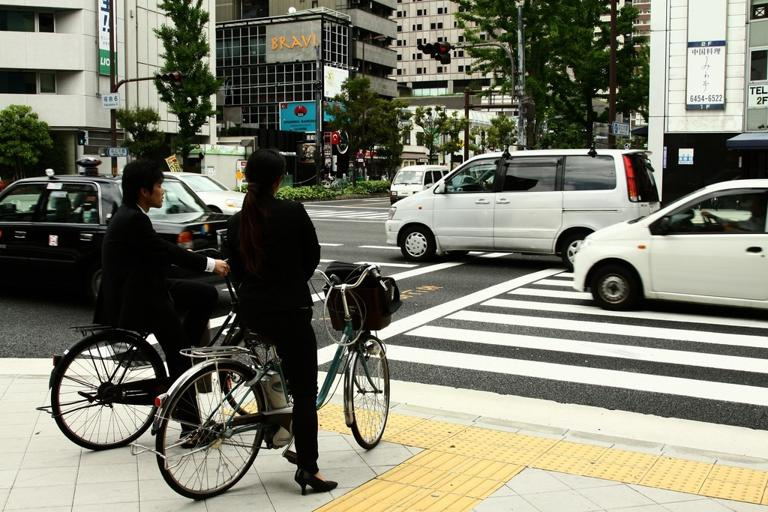non-vehicle: (129, 261, 403, 499), (35, 247, 294, 451)
